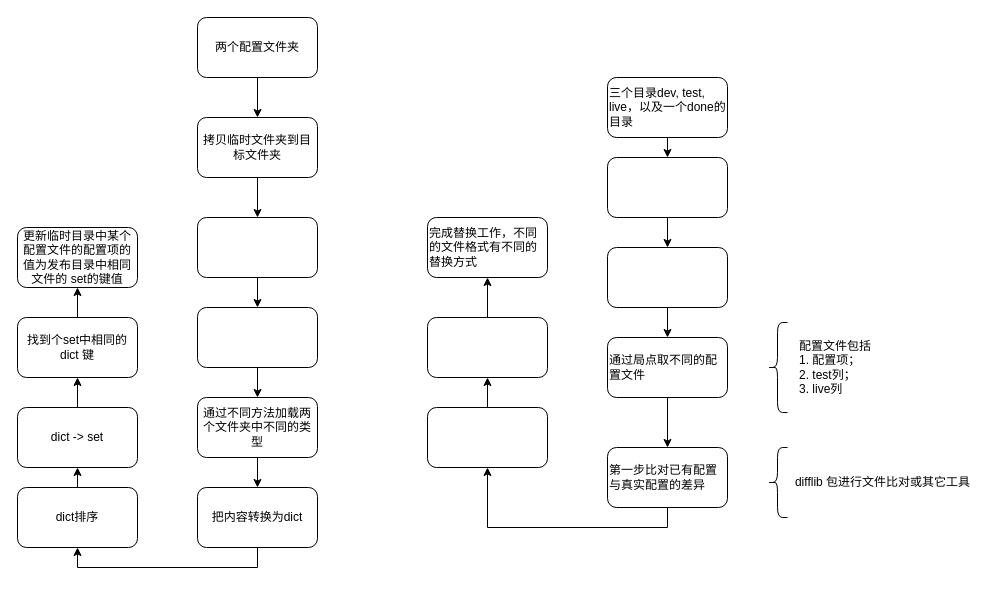
The diagram is 995 pixels wide and 593 high, and some of its shapes have lost their labels. The shapes that lost their labels are listed below. From the top down, each one's centre as x and y in pixels, then its label:
point (667, 187): 运行脚本传入参数局点与环境
point (257, 247): 通过difflib找出两个文件夹中不同的文件
point (667, 277): 拷贝相应文件到对应目录 test dev->test live test->live
point (257, 337): 判断文件类型
point (487, 347): 读取配置文件中配置项，替换done目录中相应的文件
point (487, 437): 输出日志比对结果或做实际替换
